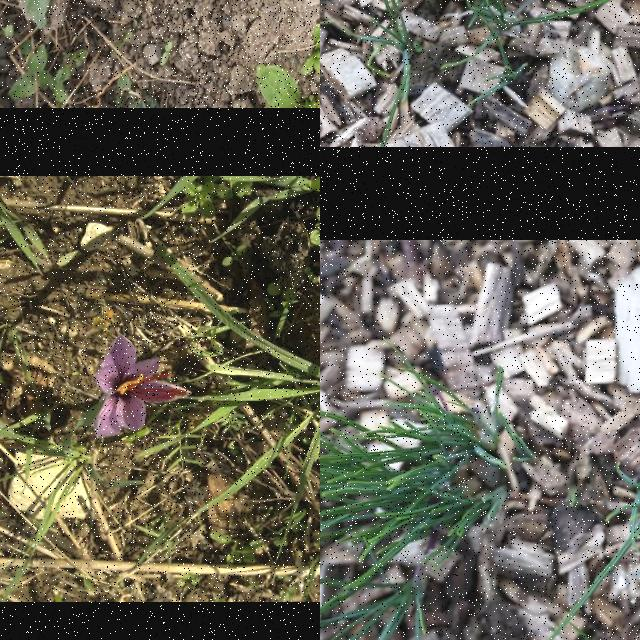flower: (93, 334, 193, 440)
